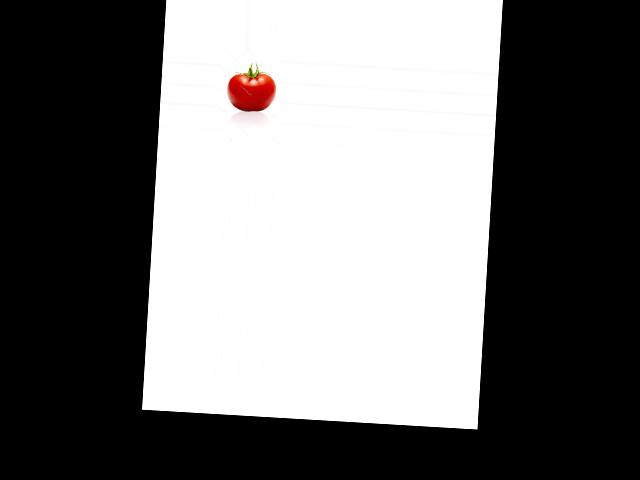tomato: (225, 71, 277, 112)
